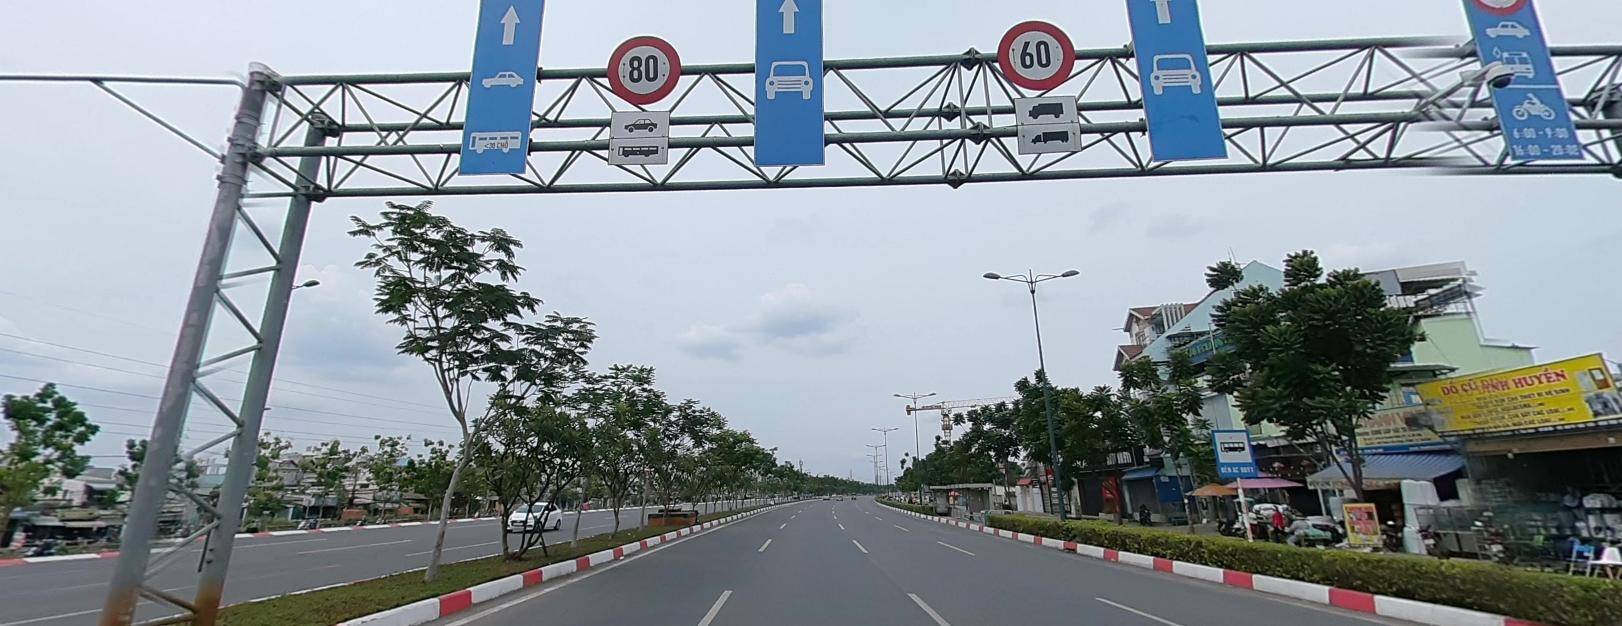Cam con lai: (1468, 0, 1529, 18)
Gioi han toc do: (606, 31, 682, 105), (995, 21, 1077, 88)
